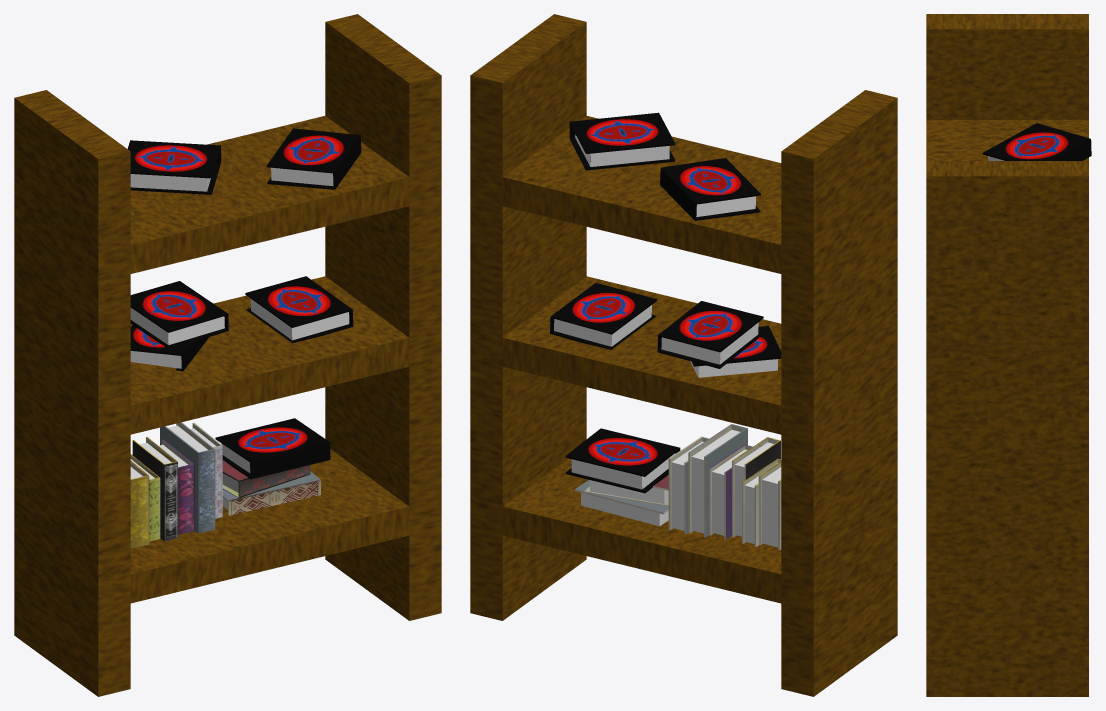
Rendered from church shelf.fbx.
3 views of the same model, side by side, from view 1: azimuth 30°, elevation 25°; view 2: azimuth 150°, elevation 25°; view 3: azimuth 270°, elevation 25° (orthographic). The views are drawn at different scales.
Parts seen in each view (by area): view 1: book case; view 2: book case; view 3: book case.
Boxes of the visible parts, box(x1,y1,x2,y2) form: book case: box(14, 14, 441, 696); book case: box(470, 14, 897, 696); book case: box(926, 14, 1091, 696).
Size of the model in its own units: 472 by 707 by 203.
